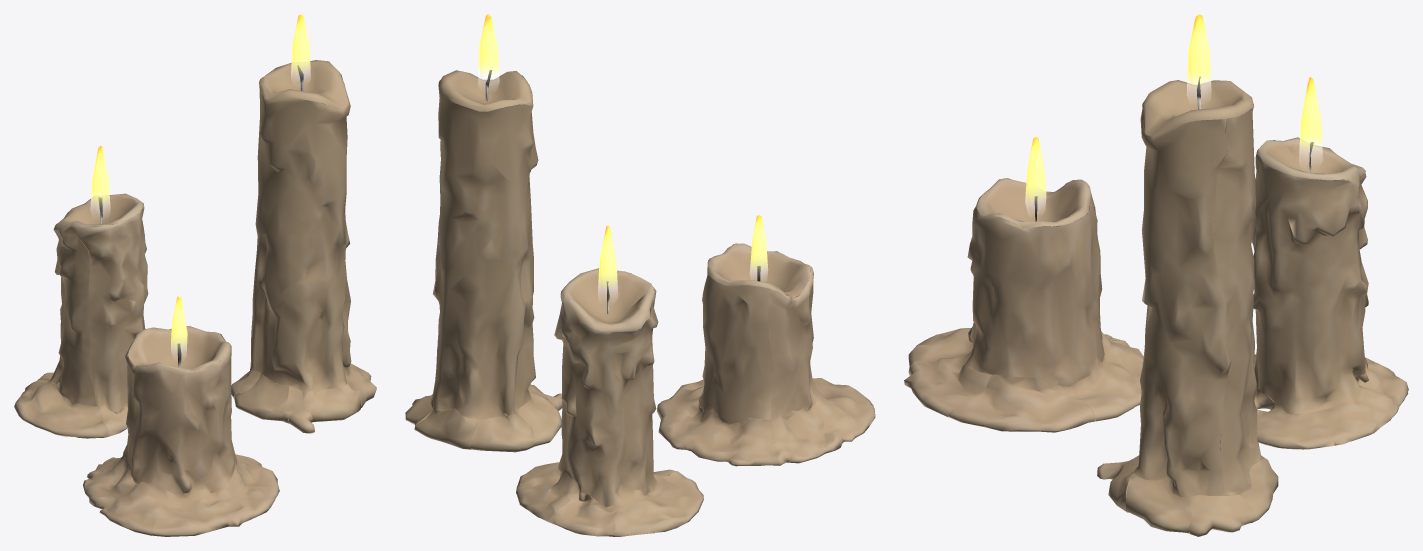
File: vela_branca.glb
The picture shows the model from 3 angles, left to right: view 1: azimuth 30°, elevation 25°; view 2: azimuth 150°, elevation 25°; view 3: azimuth 270°, elevation 25°; orthographic projection. The views are drawn at different scales.
Visible parts, largest first — view 1: candle_1_0, candle_3_4, candle_2_2, Flame_1_8, Flame_2_7, Flame_3_6; view 2: candle_1_0, candle_3_4, candle_2_2, Flame_1_8, Flame_2_7, Flame_3_6; view 3: candle_1_0, candle_3_4, candle_2_2, Flame_1_8, Flame_2_7, Flame_3_6.
Boxes of the visible parts, <box> form: candle_1_0: <box>231,60,376,433</box>; candle_3_4: <box>83,326,279,536</box>; candle_2_2: <box>14,193,148,438</box>; Flame_1_8: <box>291,14,310,82</box>; Flame_2_7: <box>90,146,110,215</box>; Flame_3_6: <box>171,296,187,356</box>; candle_1_0: <box>405,70,562,452</box>; candle_3_4: <box>657,243,875,466</box>; candle_2_2: <box>516,268,703,536</box>; Flame_1_8: <box>478,14,499,87</box>; Flame_2_7: <box>598,225,617,300</box>; Flame_3_6: <box>750,215,768,280</box>; candle_1_0: <box>1097,80,1278,536</box>; candle_3_4: <box>904,178,1143,432</box>; candle_2_2: <box>1251,137,1408,449</box>; Flame_1_8: <box>1187,14,1211,99</box>; Flame_2_7: <box>1299,77,1322,164</box>; Flame_3_6: <box>1025,137,1046,213</box>.
Bounding box in the file's own units: 0.2039 × 0.2198 × 0.2088.
Materials: 4 (4 with a texture image).
